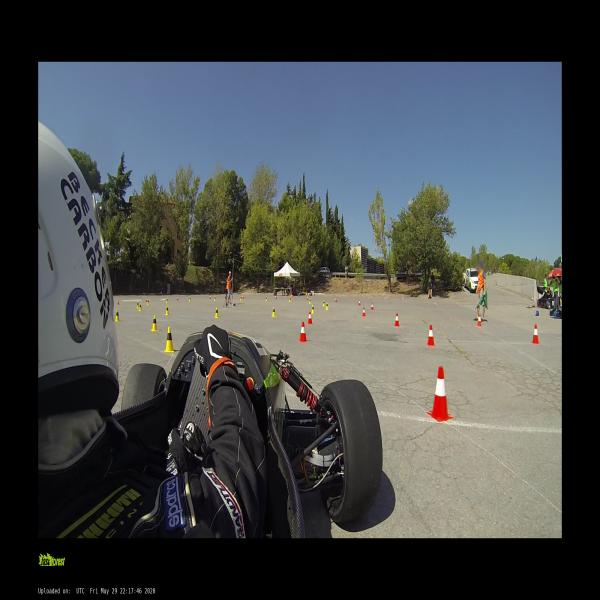orange_cone: (426, 366, 453, 421), (530, 324, 540, 346), (427, 325, 436, 346), (300, 322, 307, 342), (394, 313, 400, 327), (478, 314, 482, 327), (308, 312, 312, 325), (362, 308, 366, 316), (371, 302, 374, 311), (530, 296, 534, 302), (358, 298, 360, 306), (335, 297, 337, 303), (117, 299, 119, 305), (209, 294, 211, 300), (307, 295, 308, 301), (177, 295, 178, 301), (146, 296, 147, 302), (275, 294, 276, 299), (242, 294, 243, 299)
yellow_cone: (164, 327, 175, 352), (151, 314, 158, 331), (214, 307, 219, 318), (115, 309, 119, 321), (272, 306, 276, 316), (165, 305, 169, 315), (311, 305, 314, 314), (326, 302, 329, 310), (322, 300, 325, 306), (139, 303, 141, 311), (136, 301, 138, 309), (309, 298, 311, 304), (189, 296, 191, 302), (148, 299, 150, 305), (214, 295, 216, 301), (166, 297, 168, 303), (289, 297, 291, 302), (266, 296, 268, 301), (240, 296, 241, 301)
